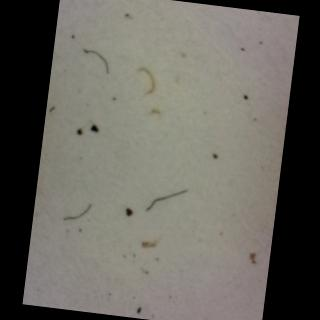Microplastic: (137, 170, 198, 228), (77, 46, 116, 84), (58, 195, 96, 232), (130, 61, 164, 101)
